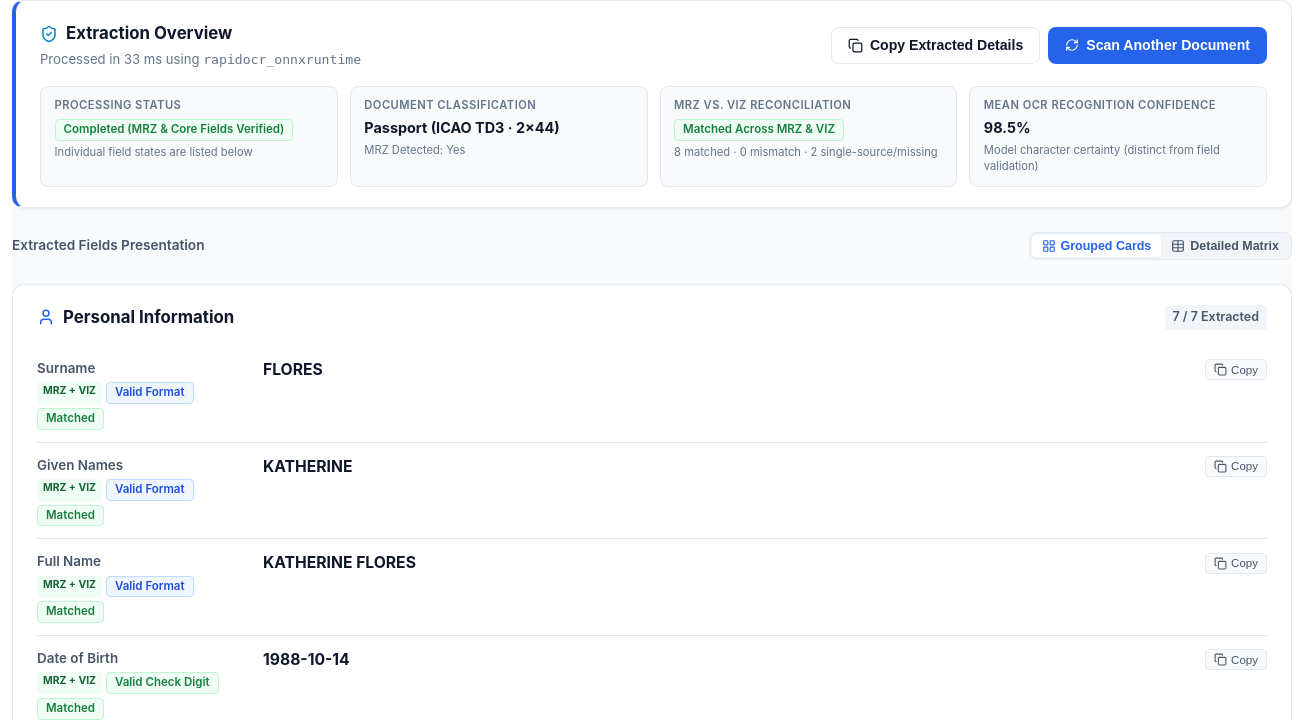
it: ExtractionDetails Component › toggles view mode between Grouped Cards and Detailed Matrix
Expected: the heading "Personal Information" is shown, [63,305,234,330]
Expected: the text "Extracted Passport Fields" is not shown
Switch to Detailed Matrix view
Click the button "Detailed Matrix".
click(1225, 246)  # box [1161,235,1289,257]
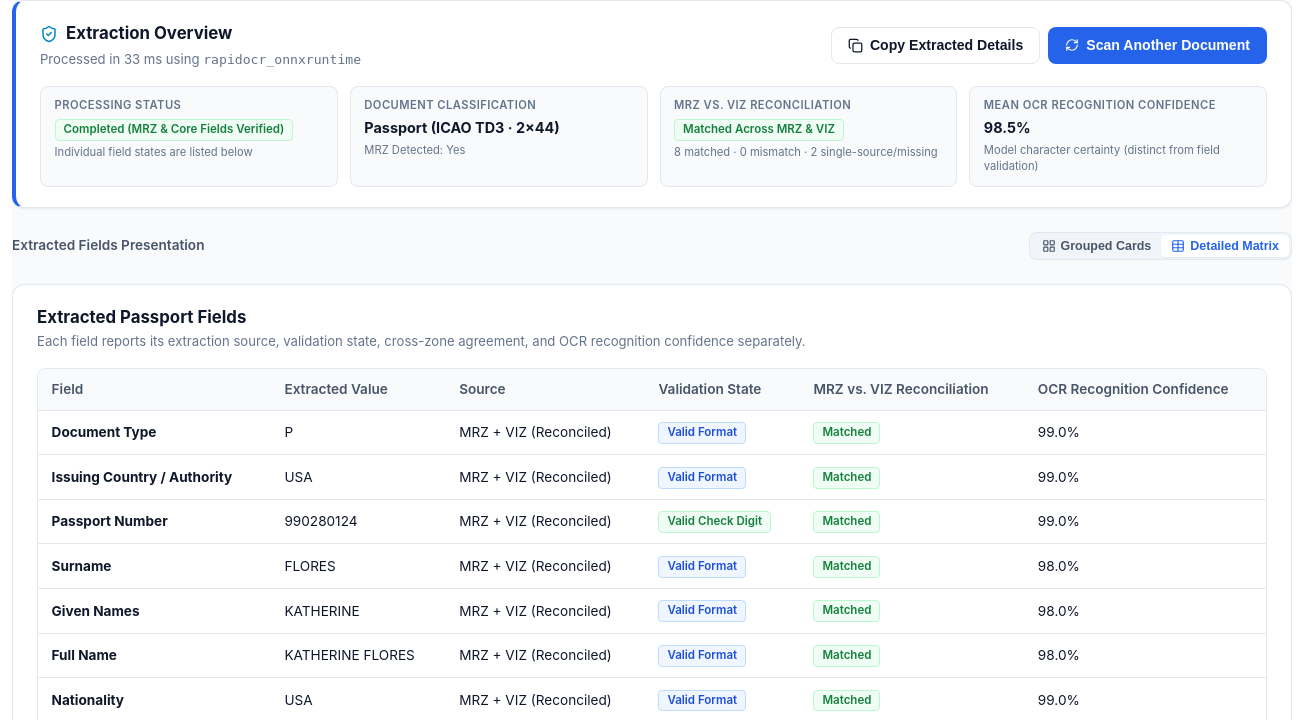
Expected: the heading "Extracted Passport Fields" is shown, [37,307,246,327]
Switch back to Grouped Cards view
Click the button "Grouped Cards".
click(1096, 246)  # box [1032,235,1161,257]
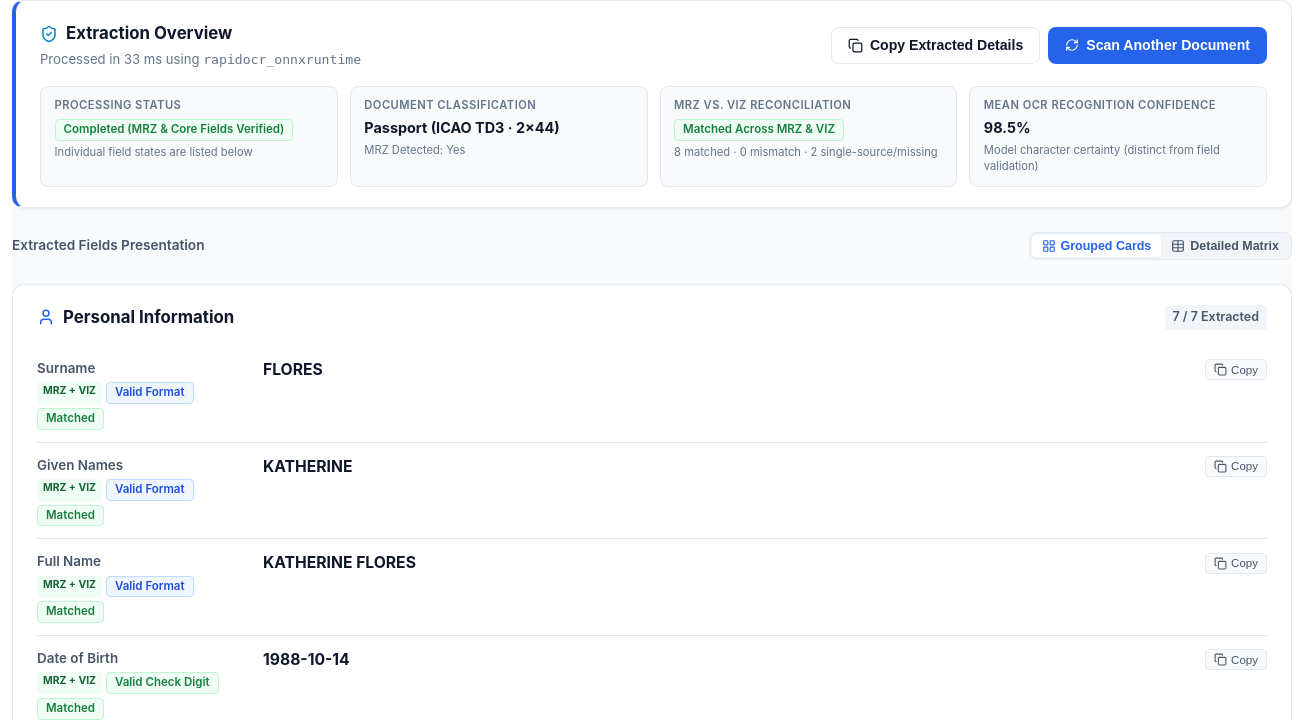
Expected: the heading "Personal Information" is shown, [63,305,234,330]
Expected: the heading "Extracted Passport Fields" is gone
